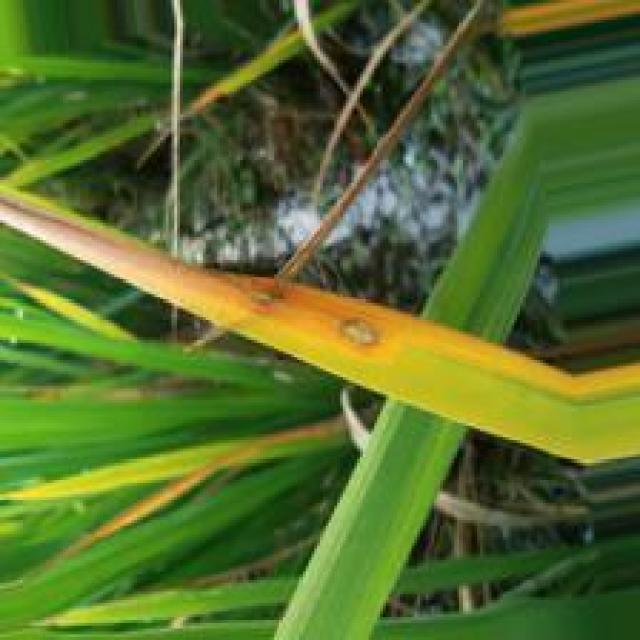Rice False Smut: (1, 198, 228, 300), (237, 278, 296, 321), (336, 320, 386, 350)
